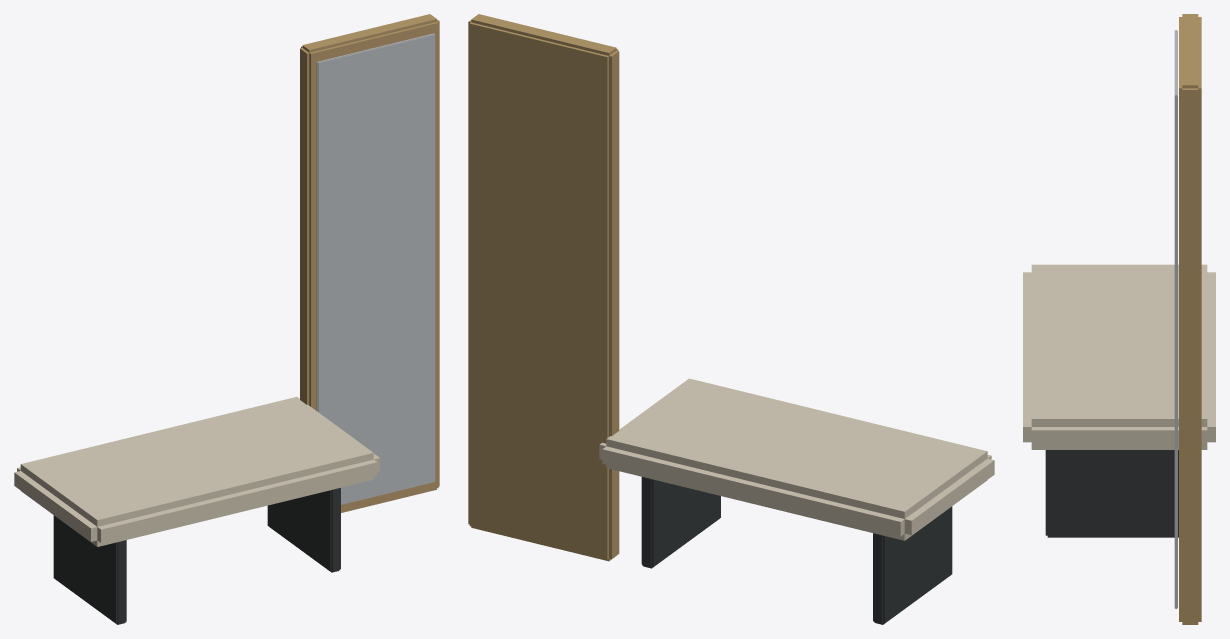
The model's file is fixture_v23_shoe_bench_mirror.glb.
3 views of the same model, side by side, from view 1: azimuth 30°, elevation 25°; view 2: azimuth 150°, elevation 25°; view 3: azimuth 270°, elevation 25° (orthographic). The views are drawn at different scales.
Parts seen in each view (by area): view 1: fixture_v23_shoe_bench_mirror_Brushed_stainless, fixture_v23_shoe_bench_mirror_V23_natural_canvas, fixture_v23_shoe_bench_mirror_V23_satin_brass, fixture_v23_shoe_bench_mirror_Anodised_graphite; view 2: fixture_v23_shoe_bench_mirror_V23_satin_brass, fixture_v23_shoe_bench_mirror_V23_natural_canvas, fixture_v23_shoe_bench_mirror_Anodised_graphite; view 3: fixture_v23_shoe_bench_mirror_V23_natural_canvas, fixture_v23_shoe_bench_mirror_V23_satin_brass, fixture_v23_shoe_bench_mirror_Anodised_graphite, fixture_v23_shoe_bench_mirror_Brushed_stainless.
Part boxes in pixels (<box>): fixture_v23_shoe_bench_mirror_Brushed_stainless: <box>316,33,435,504</box>; fixture_v23_shoe_bench_mirror_V23_natural_canvas: <box>14,397,379,546</box>; fixture_v23_shoe_bench_mirror_V23_satin_brass: <box>300,14,439,512</box>; fixture_v23_shoe_bench_mirror_Anodised_graphite: <box>53,488,340,624</box>; fixture_v23_shoe_bench_mirror_V23_satin_brass: <box>468,14,619,561</box>; fixture_v23_shoe_bench_mirror_V23_natural_canvas: <box>599,378,994,540</box>; fixture_v23_shoe_bench_mirror_Anodised_graphite: <box>641,477,952,624</box>; fixture_v23_shoe_bench_mirror_V23_natural_canvas: <box>1023,264,1215,449</box>; fixture_v23_shoe_bench_mirror_V23_satin_brass: <box>1179,14,1201,624</box>; fixture_v23_shoe_bench_mirror_Anodised_graphite: <box>1045,450,1178,537</box>; fixture_v23_shoe_bench_mirror_Brushed_stainless: <box>1174,30,1177,608</box>.
Size of the model in its own units: 1.94 by 2.1 by 0.68.
